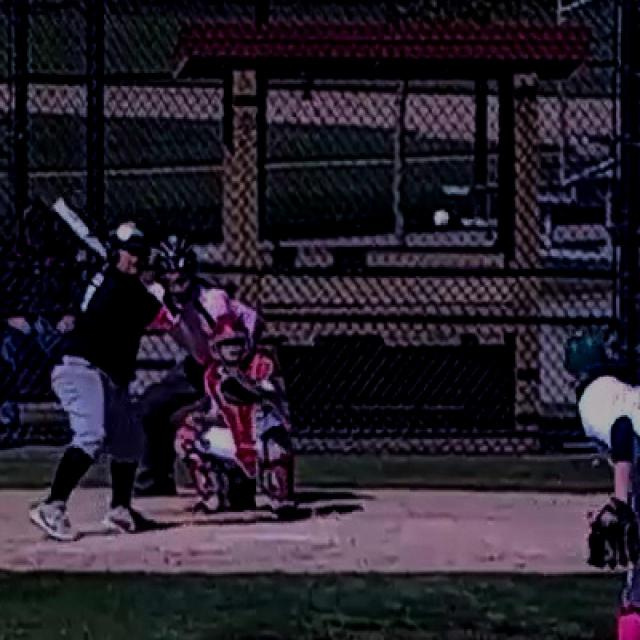baseball: (433, 210, 449, 226)
